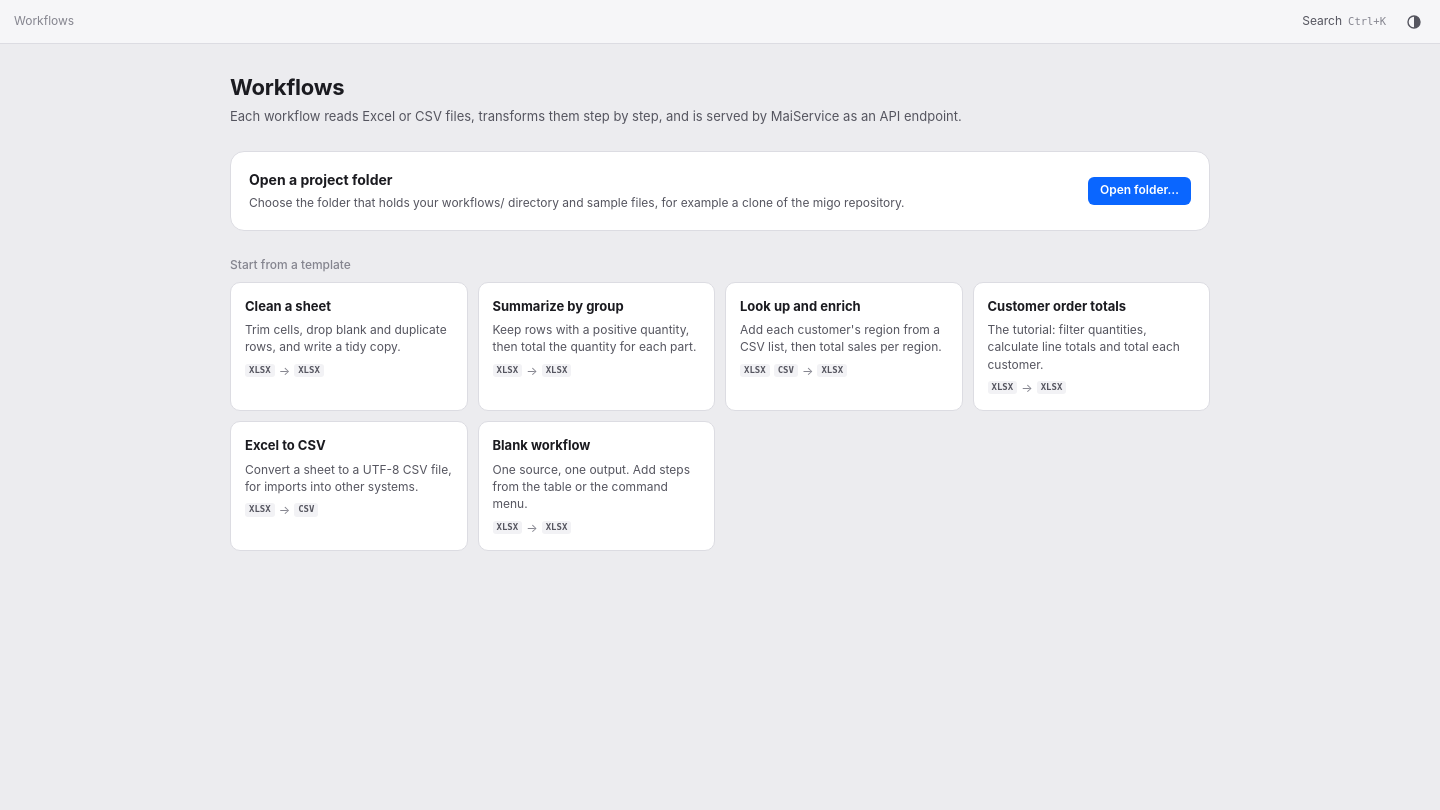
Test: retries a failed current preview with the same inputs and clears the diagnostic
Click the button "Open folder…" at (1139, 191), box [1088,177,1191,205]
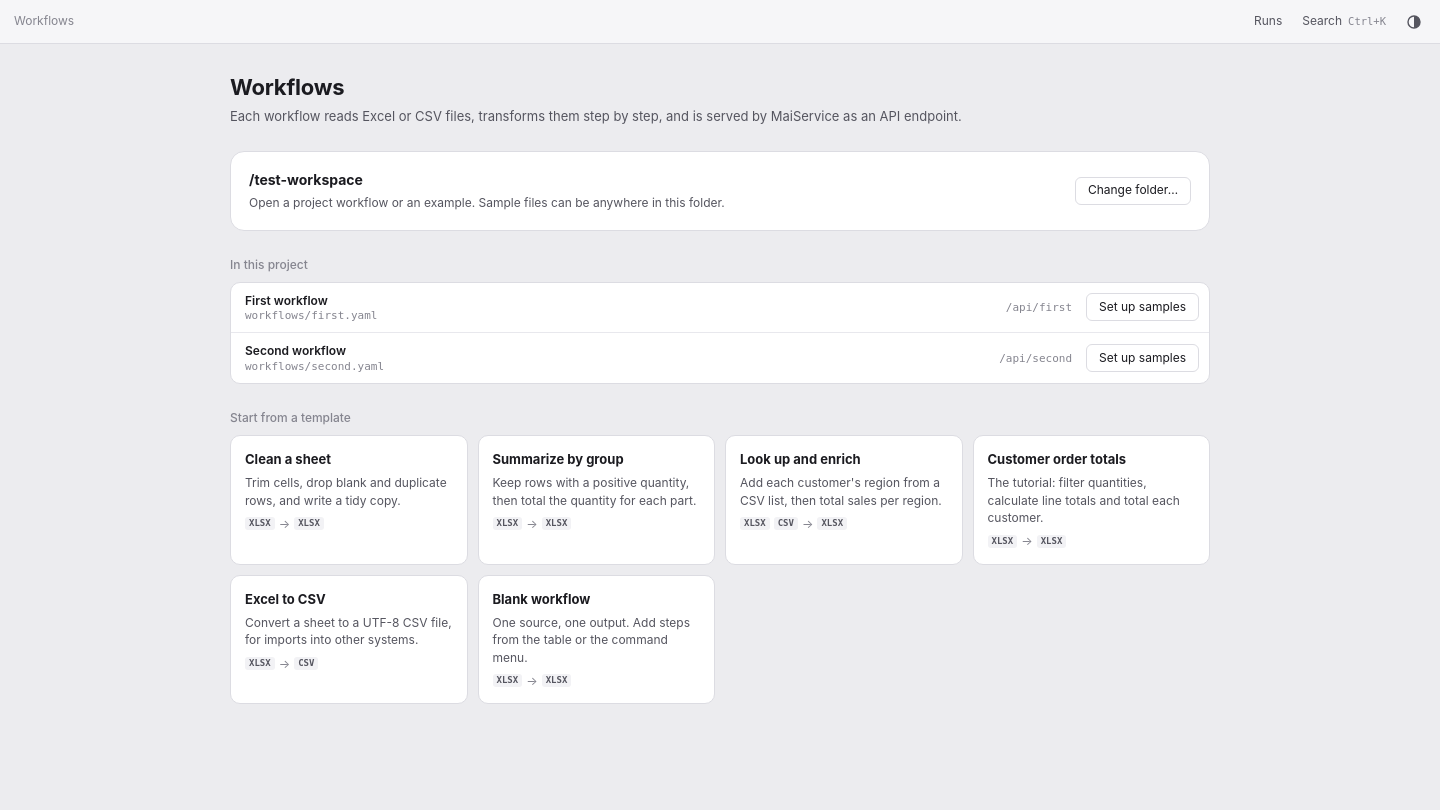
Click the button "First workflow workflows/first.yaml /api/first" at (286, 300), box [231,283,1086,332]
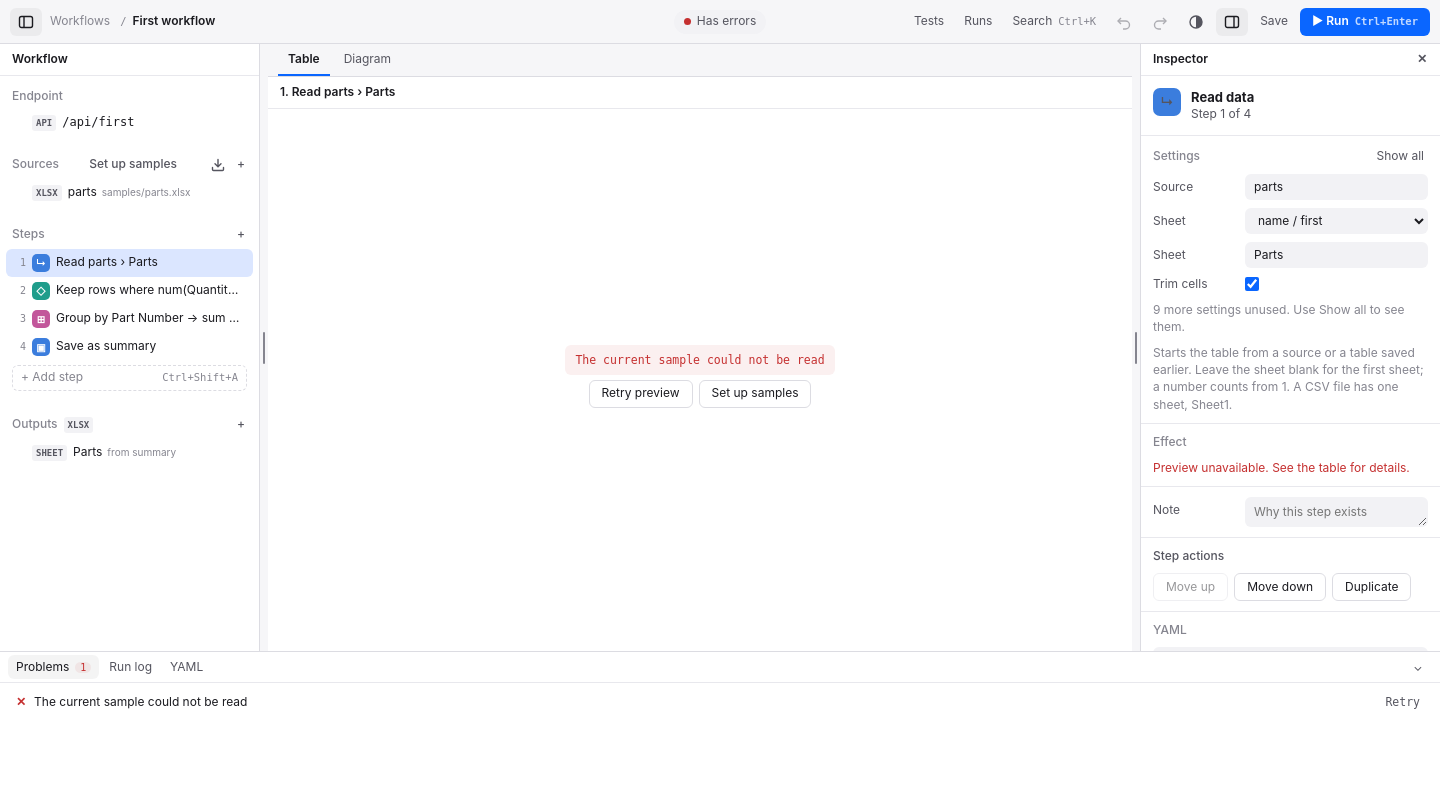
Now the 2nd text "The current sample could not be read" is shown, box [34,694,248,709]
Click the button "Retry preview" at (640, 394), box [588,380,692,408]
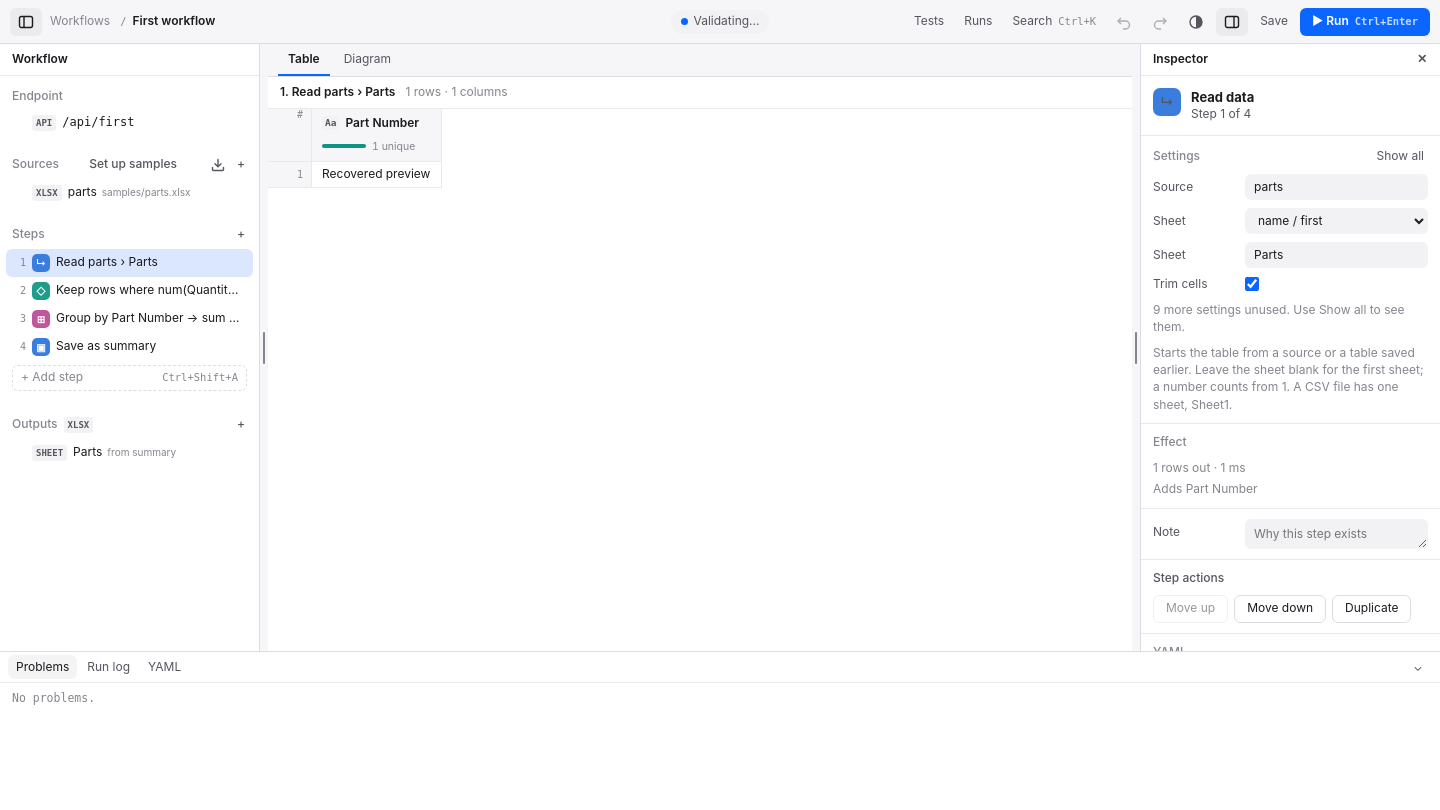
Now the text "Recovered preview" is shown, box [312,162,442,188]
Now the text "The current sample could not be read" is gone
